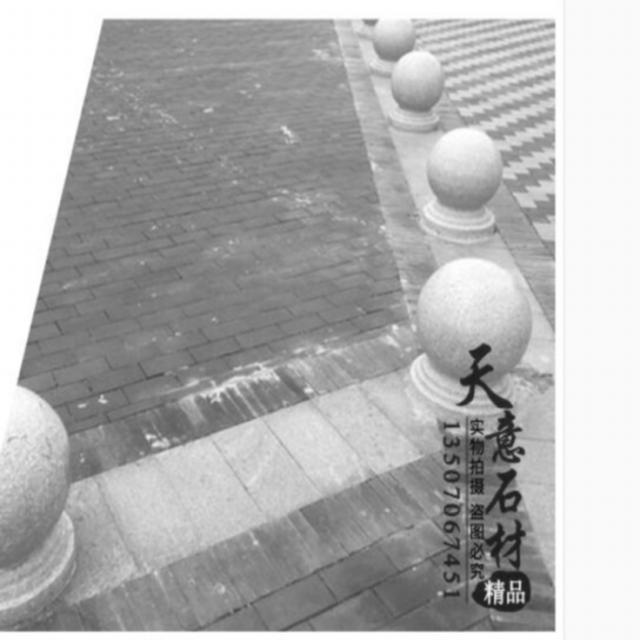spherical_roadblock: (406, 253, 532, 425), (1, 382, 73, 614), (419, 122, 502, 239), (384, 45, 444, 132), (366, 17, 414, 77)
